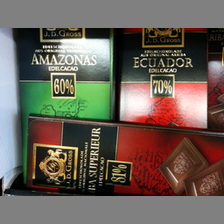chocolate: (22, 113, 224, 196), (15, 28, 115, 118), (123, 27, 209, 126)
